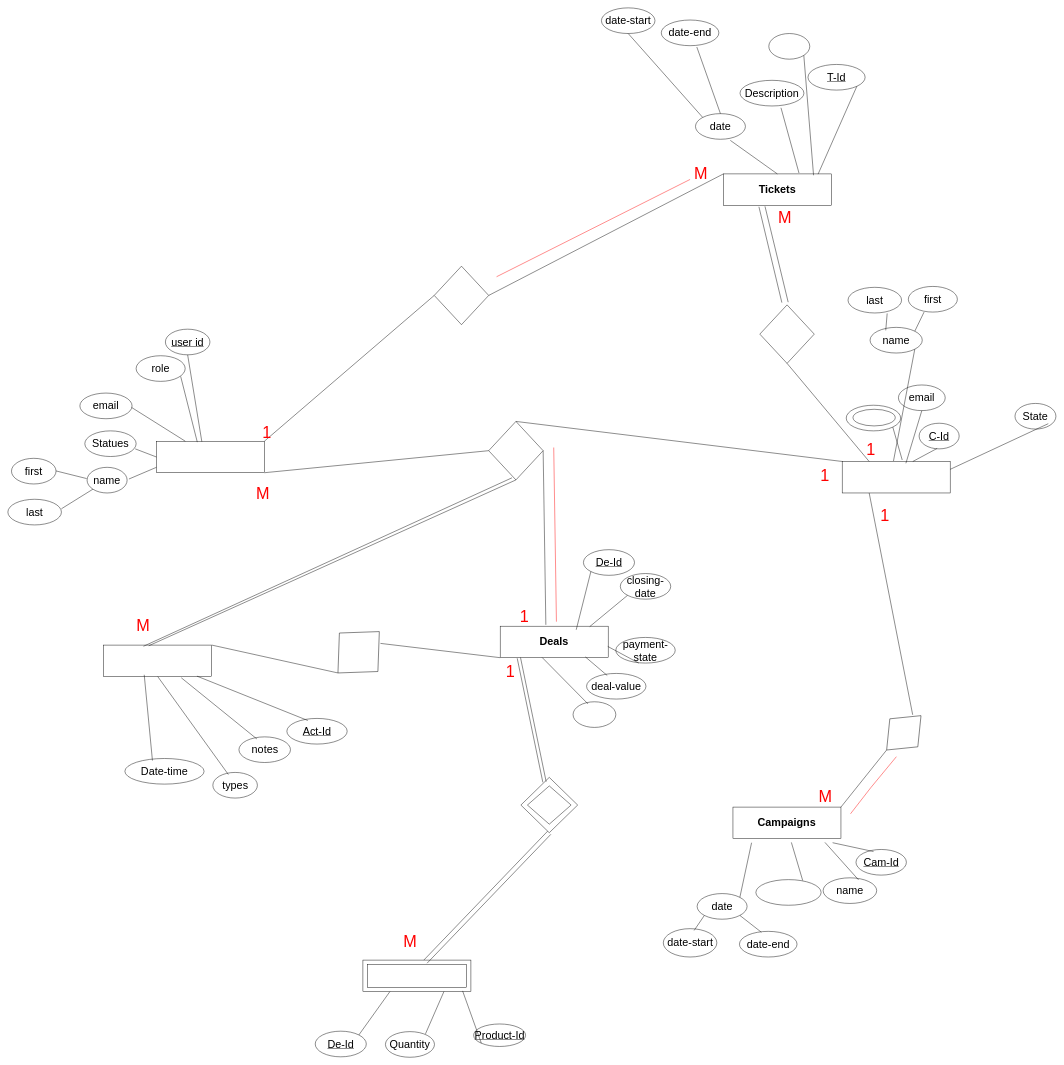
Some shapes in this 1064 by 1065 pixel diagram are drawn without their labels. The shapes that lost their labels are listed below. From the top down, each one's box as (x1, y1, x2, y2) in pixels, then its label:
(768, 33, 810, 59): statue
(434, 266, 489, 325): resolve
(759, 304, 814, 363): SUBMIT
(853, 409, 895, 426): phone
(156, 441, 264, 473): USERS
(488, 421, 543, 480): follow-UP
(842, 461, 950, 493): clients
(103, 645, 212, 677): Activities
(318, 612, 399, 692): HAS
(573, 701, 616, 727): stage
(872, 701, 935, 764): ATTRACT
(527, 785, 571, 824): CONTAINS
(755, 879, 821, 905): budget
(367, 964, 466, 988): Deals_products
